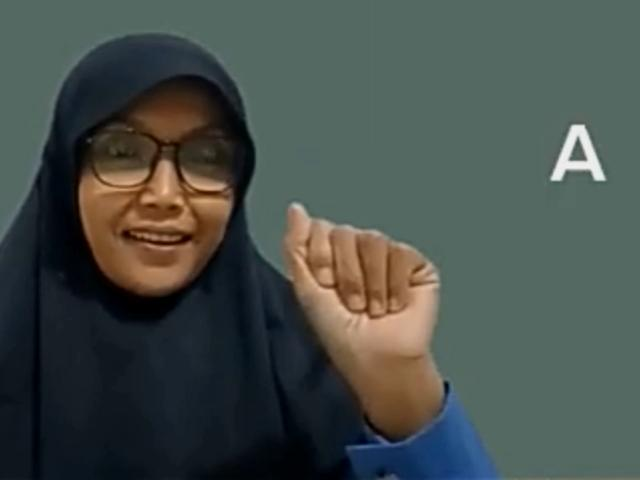A: (282, 201, 444, 363)
